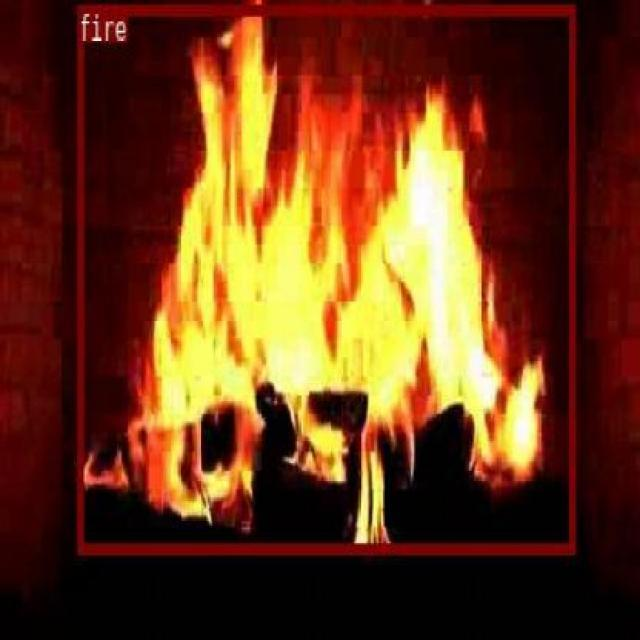Fire: (77, 2, 574, 552)
